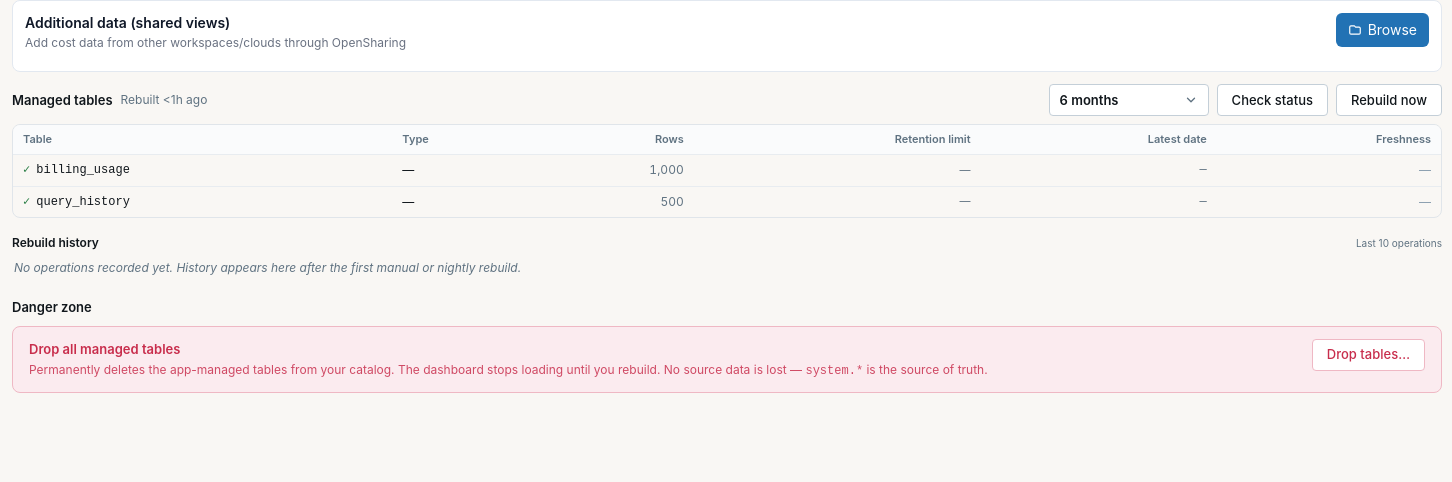
Test: SettingsConfig — CONFIRM gate before irreversible drop › shows the CONFIRM input after clicking 'Drop Tables'
Click the button "Drop tables…".
click(1368, 355)  # box [1312, 339, 1425, 371]
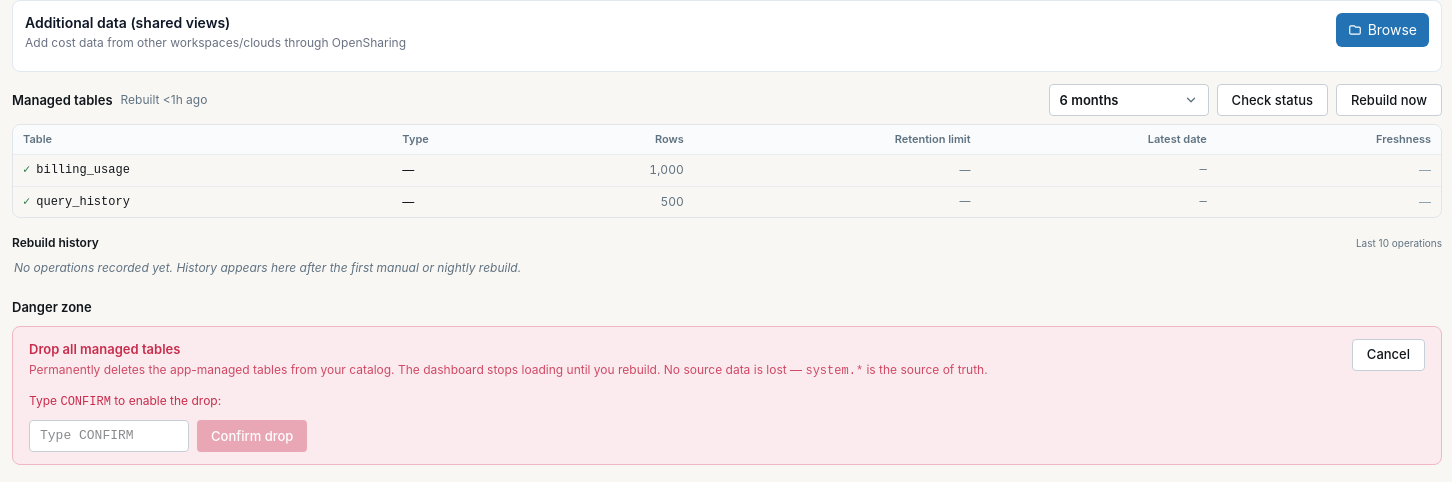
Expected: the field with placeholder "Type CONFIRM" is shown, [29, 420, 189, 452]
